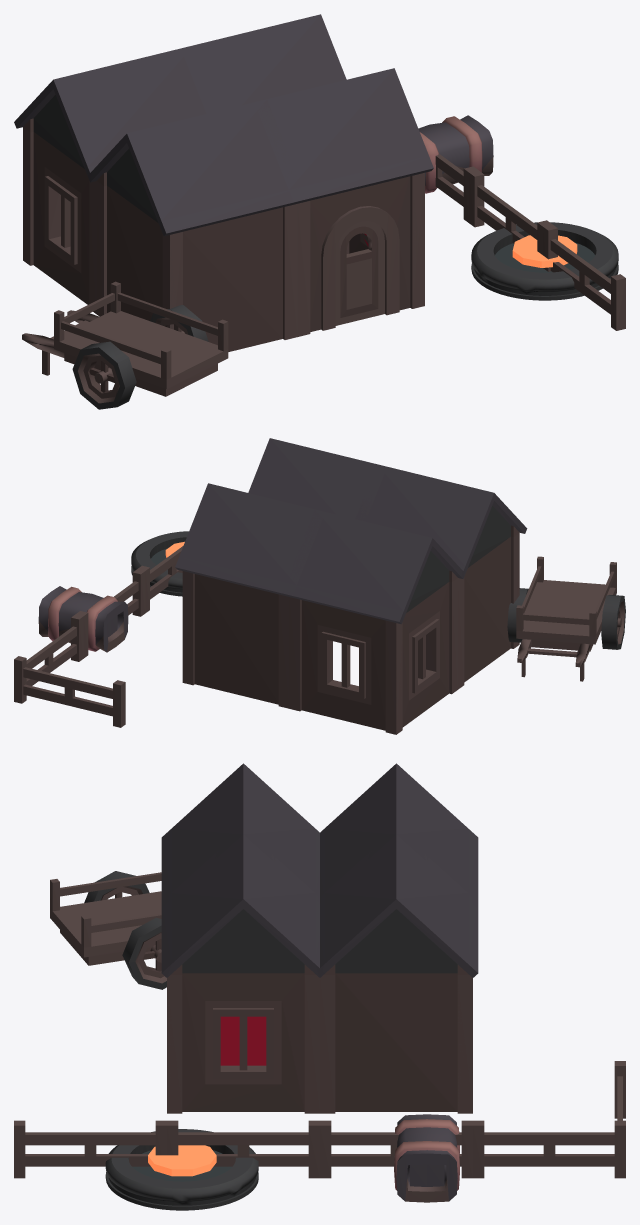
Rendered from bloodfarm_l2.glb.
3 views of the same model, one above another, from view 1: azimuth 30°, elevation 25°; view 2: azimuth 150°, elevation 25°; view 3: azimuth 270°, elevation 25° (orthographic). The views are drawn at different scales.
Visible parts, largest first — view 1: bloodfarm_l2; view 2: bloodfarm_l2; view 3: bloodfarm_l2.
Part boxes in pixels (x1=…): bloodfarm_l2: x1=14, y1=14, x2=625, y2=409; bloodfarm_l2: x1=14, y1=438, x2=625, y2=734; bloodfarm_l2: x1=14, y1=763, x2=625, y2=1210.
Bounding box in the file's own units: 7.9 × 2.84 × 7.24.
